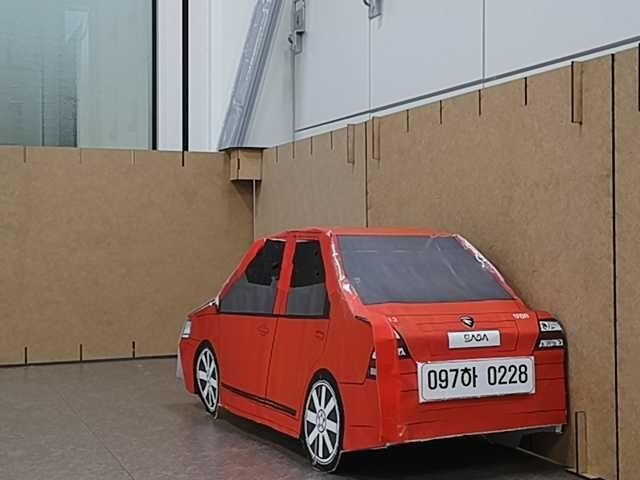car: (177, 220, 573, 469)
id: (417, 358, 537, 403)
